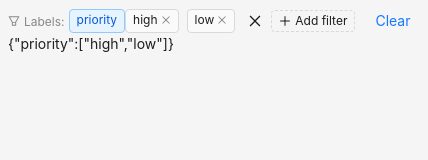
Scenario: LabelFilterStrip › "Remove key" X drops the whole key group
This screenshot has width=428, height=160.
Click the button with test id "label-filter-remove-key-priority" at (255, 21), box [243,9,267,33]
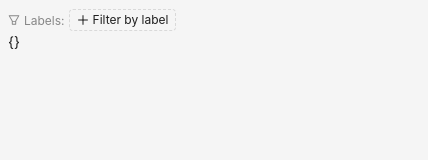
Expected: the element with test id "label-filter-group-priority" is gone
Expected: the text with test id "json" reads "{}", [8,33,20,50]
